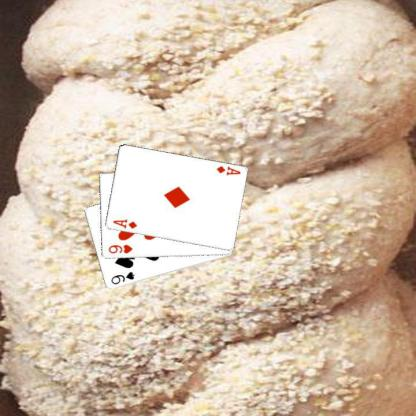9H: (106, 242, 133, 255)
9S: (108, 269, 136, 286)
AD: (214, 163, 241, 177), (110, 217, 138, 230)
